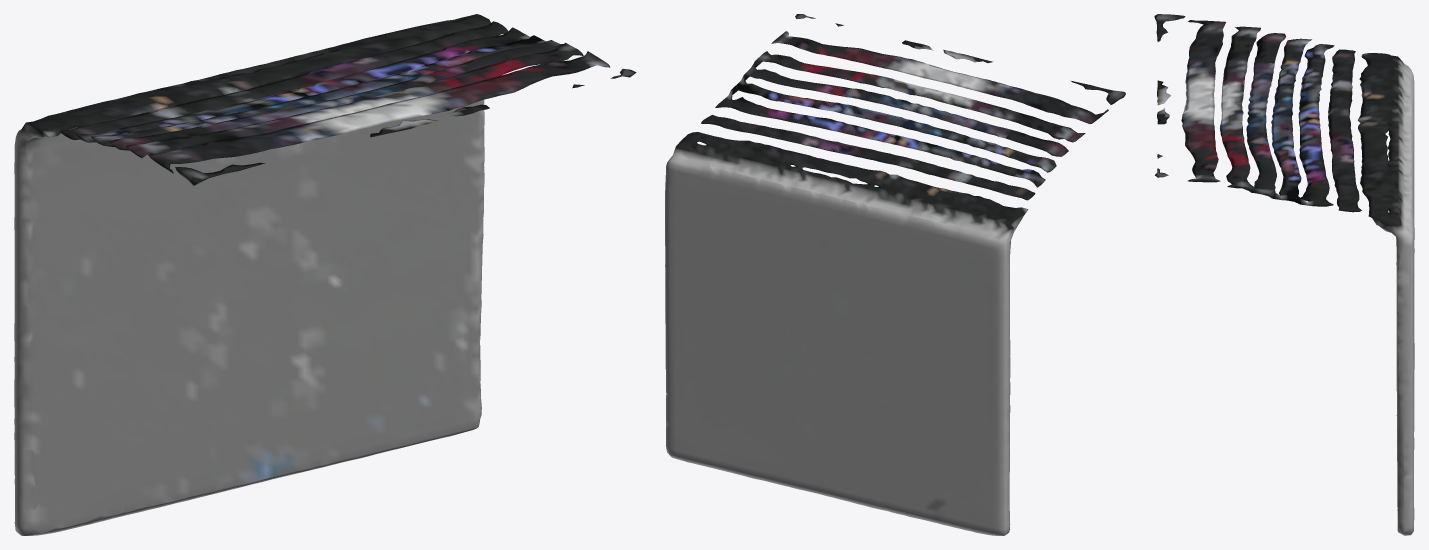
Rendered from a laptop with display affordance.obj.
The picture shows the model from 3 angles, left to right: view 1: azimuth 30°, elevation 25°; view 2: azimuth 150°, elevation 25°; view 3: azimuth 270°, elevation 25°; orthographic projection. The views are drawn at different scales.
Bounding box in the file's own units: 0.9978 × 0.9922 × 0.6487.
